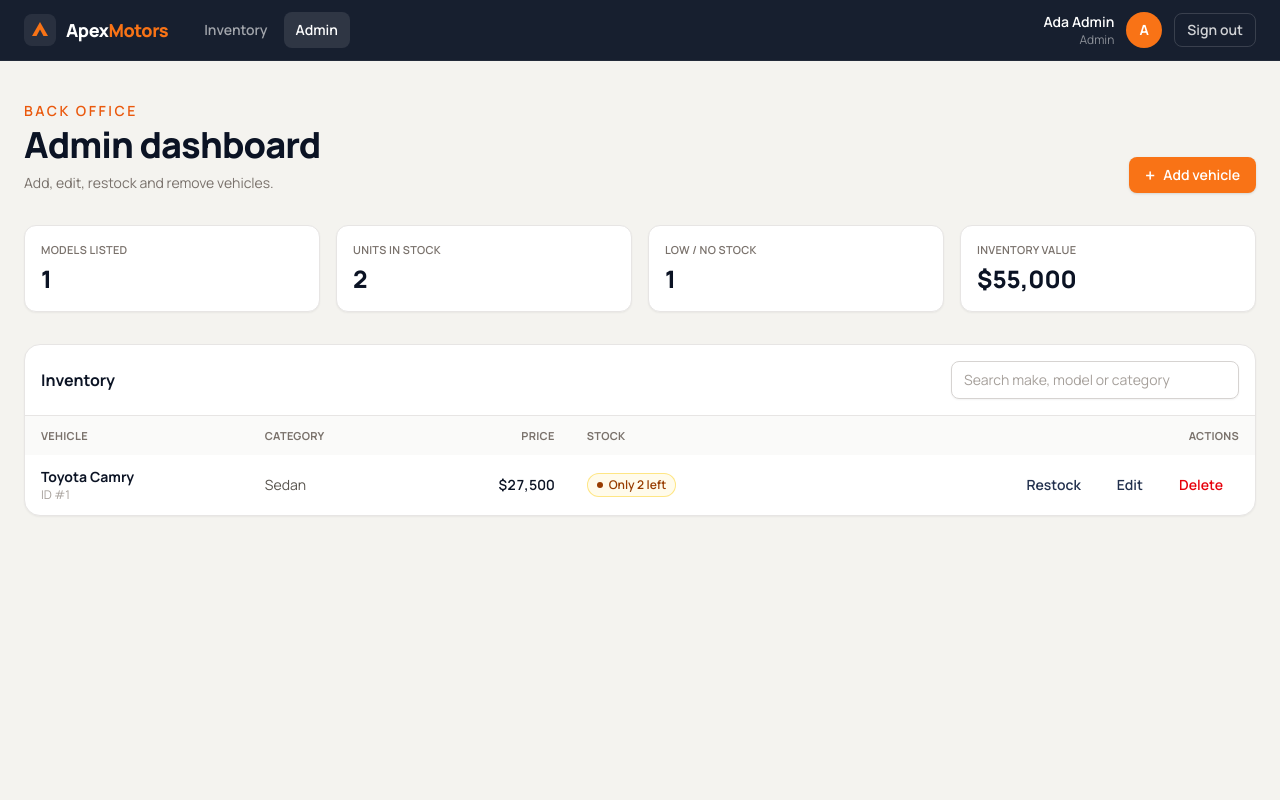
Scenario: Admin dashboard › keeps the form open and shows the error when the API rejects it
Click the button with aria-label "Edit Toyota Camry" at (1130, 485), box [1101,467,1159,503]
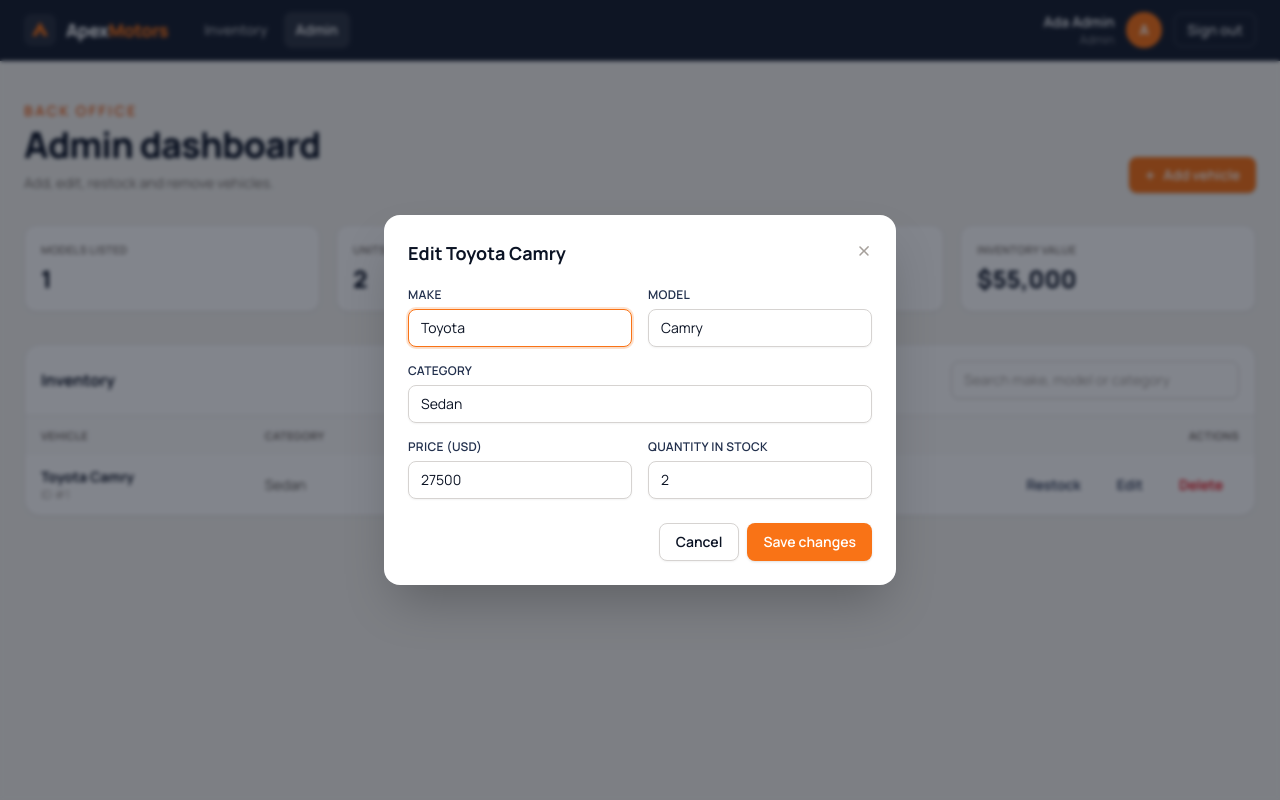
Click the button "Save changes" at (810, 542), box [747,523,872,561]
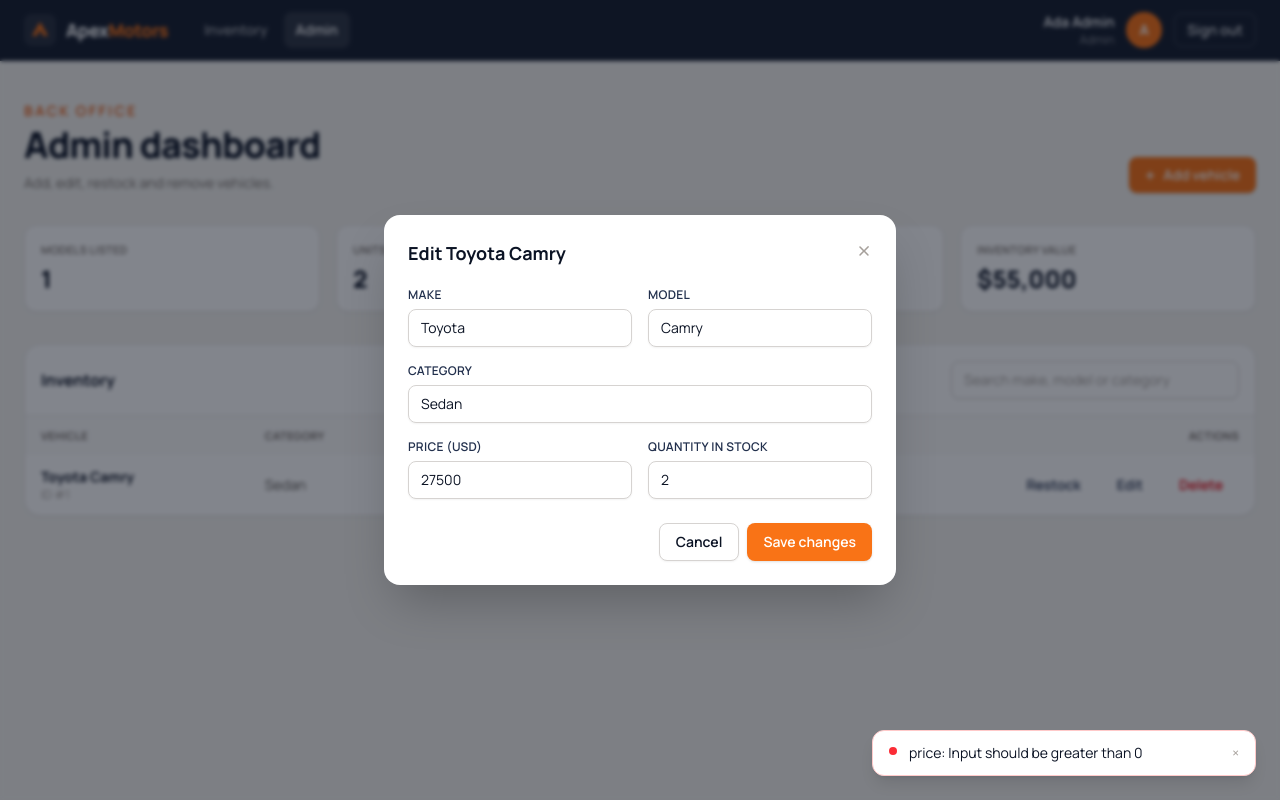
Now the dialog is shown, box [384,215,896,585]
Now the text "price: Input should be greater than 0" is shown, box [909,743,1142,762]
